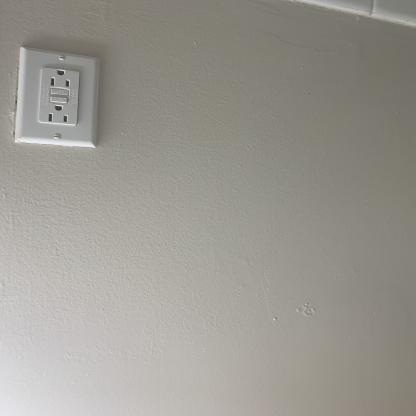OUTLET: (15, 52, 102, 146)
